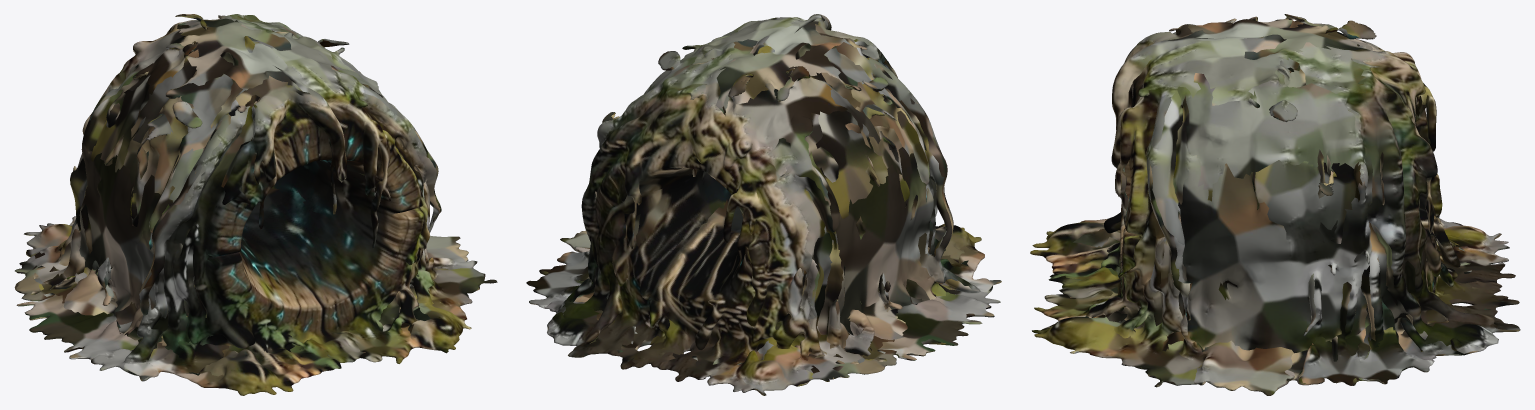
File: log_tunnel.glb
3 views of the same model, side by side, from view 1: azimuth 30°, elevation 25°; view 2: azimuth 150°, elevation 25°; view 3: azimuth 270°, elevation 25° (orthographic). The views are drawn at different scales.
Visible parts, largest first — view 1: geometry_0; view 2: geometry_0; view 3: geometry_0.
Part boxes in pixels (left/top/right/bottom): geometry_0: left=14, top=14, right=497, bottom=395; geometry_0: left=526, top=14, right=1001, bottom=395; geometry_0: left=1030, top=14, right=1520, bottom=395.
Bounding box in the file's own units: 2 × 1.15 × 1.97.
Materials: 1 (1 with a texture image).
